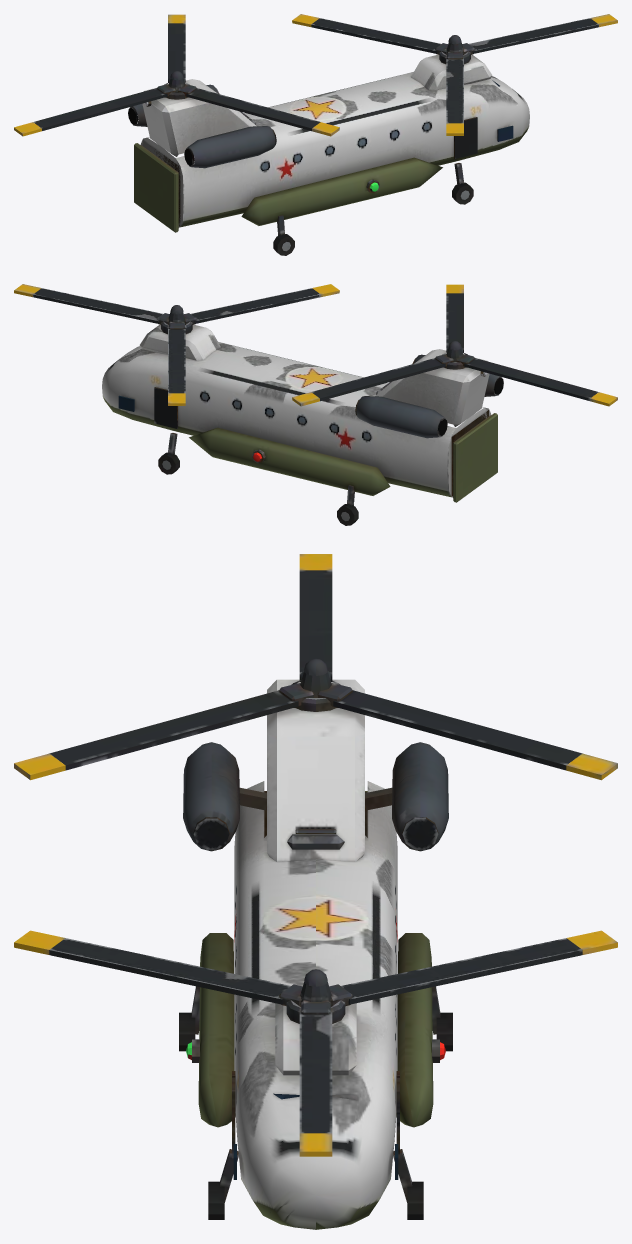
File: tran.soviet.glb
The picture shows the model from 3 angles, top to bottom: view 1: azimuth 30°, elevation 25°; view 2: azimuth 150°, elevation 25°; view 3: azimuth 270°, elevation 25°; orthographic projection. The views are drawn at different scales.
Parts seen in each view (by area): view 1: root_mesh, rotorF_mesh, rotorR_mesh, ramp_mesh; view 2: root_mesh, rotorF_mesh, rotorR_mesh, ramp_mesh; view 3: root_mesh, rotorF_mesh, rotorR_mesh.
Part boxes in pixels (box(x1,y1,x2,y2)): root_mesh: box(128, 54, 529, 255); rotorF_mesh: box(292, 14, 617, 135); rotorR_mesh: box(14, 14, 339, 136); ramp_mesh: box(134, 143, 178, 232); root_mesh: box(102, 324, 503, 525); rotorF_mesh: box(14, 284, 339, 405); rotorR_mesh: box(292, 284, 617, 406); ramp_mesh: box(453, 413, 497, 502); root_mesh: box(179, 679, 452, 1229); rotorF_mesh: box(14, 930, 617, 1156); rotorR_mesh: box(14, 554, 617, 780).
Size of the model in its own units: 1.56 by 0.4391 by 0.7407.
Materials: 2 (1 with a texture image).
